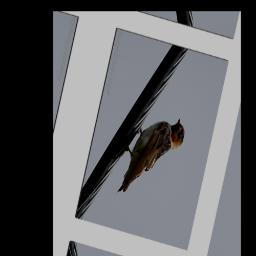Swallow: (113, 104, 189, 211)
